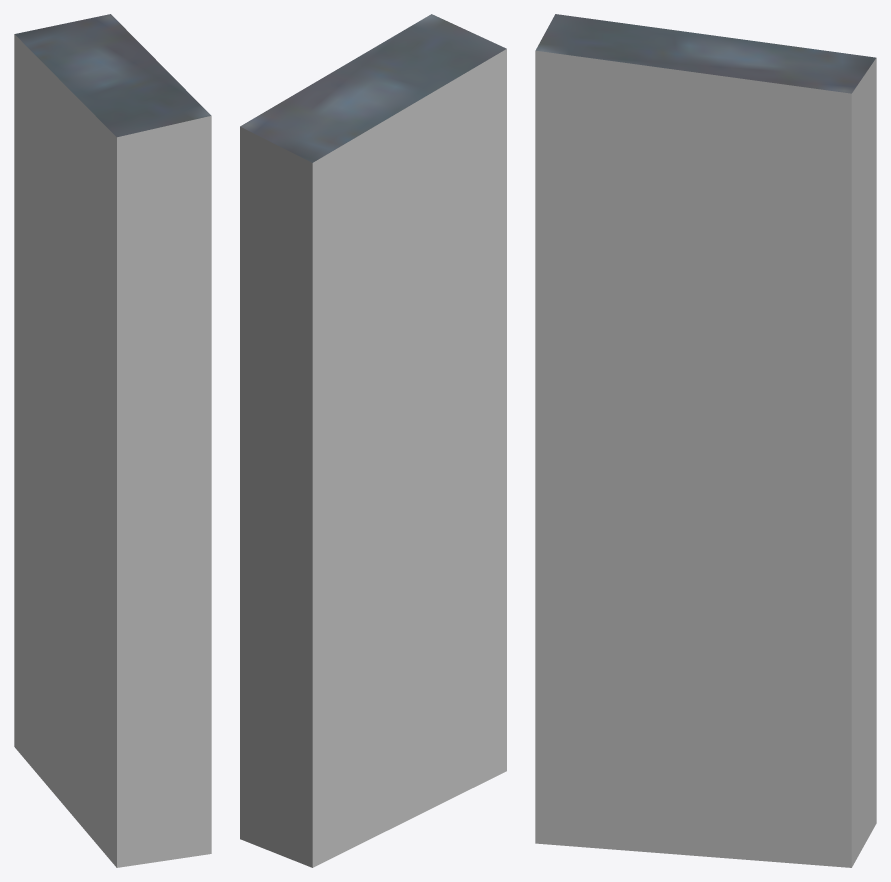
Rendered from DEBW_0010007THXi.gltf.
The picture shows the model from 3 angles, left to right: view 1: azimuth 30°, elevation 25°; view 2: azimuth 150°, elevation 25°; view 3: azimuth 270°, elevation 25°; orthographic projection. The views are drawn at different scales.
Parts seen in each view (by area): view 1: Z_UP; view 2: Z_UP; view 3: Z_UP.
Boxes of the visible parts, <box> form: Z_UP: <box>14,14,211,867</box>; Z_UP: <box>240,14,506,867</box>; Z_UP: <box>535,14,876,867</box>.
Size of the model in its own units: 2.38 by 12.72 by 4.96.
2 materials, 1 textured.
